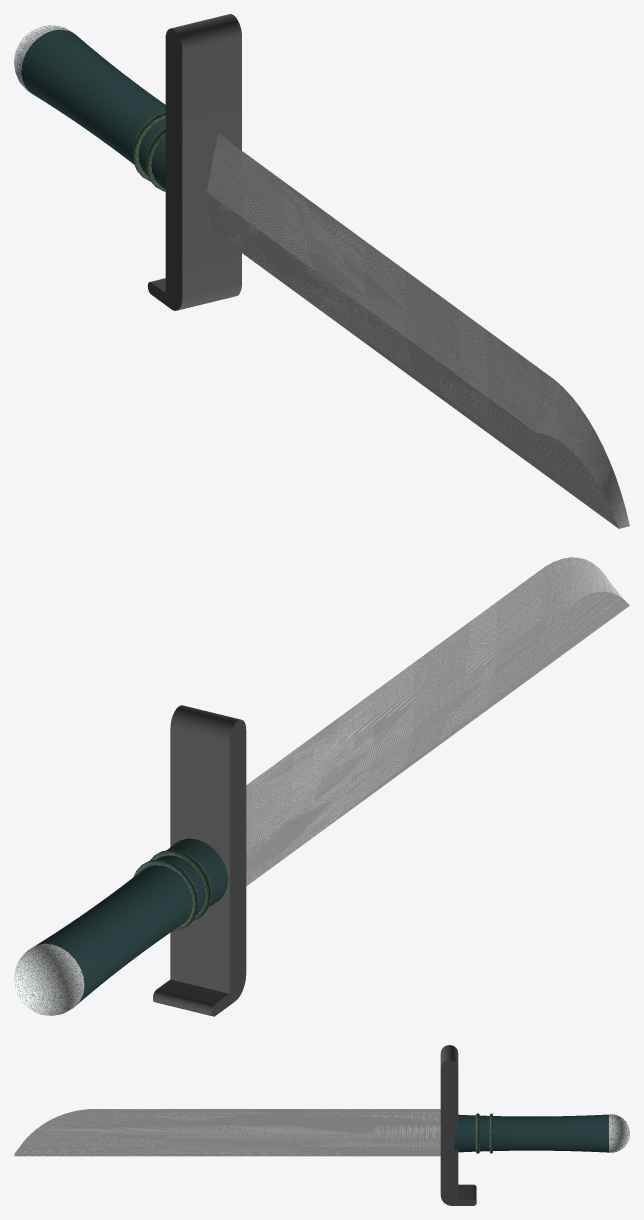
The model's file is model_align.obj.
3 views of the same model, one above another, from view 1: azimuth 30°, elevation 25°; view 2: azimuth 150°, elevation 25°; view 3: azimuth 270°, elevation 25° (orthographic). The views are drawn at different scales.
Visible parts, largest first — view 1: mesh3_mesh3-geometry, mesh1_mesh1-geometry, mesh4_mesh4-geometry; view 2: mesh3_mesh3-geometry, mesh1_mesh1-geometry, mesh4_mesh4-geometry; view 3: mesh3_mesh3-geometry, mesh4_mesh4-geometry, mesh1_mesh1-geometry.
Part boxes in pixels (x1,y1,x2,y2): mesh3_mesh3-geometry: [207, 133, 629, 528]; mesh1_mesh1-geometry: [147, 14, 241, 310]; mesh4_mesh4-geometry: [14, 25, 165, 191]; mesh3_mesh3-geometry: [246, 557, 629, 885]; mesh1_mesh1-geometry: [153, 705, 246, 1016]; mesh4_mesh4-geometry: [14, 838, 227, 1015]; mesh3_mesh3-geometry: [14, 1109, 440, 1156]; mesh4_mesh4-geometry: [454, 1113, 629, 1153]; mesh1_mesh1-geometry: [440, 1045, 476, 1205].
Size of the model in its own units: 0.013 by 0.0518 by 0.1982.
